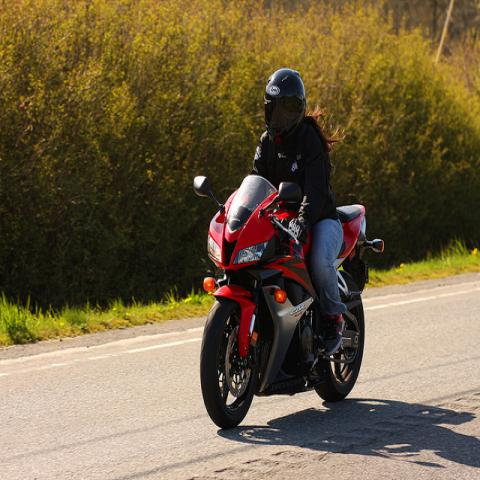motorcycle: (195, 168, 388, 428)
